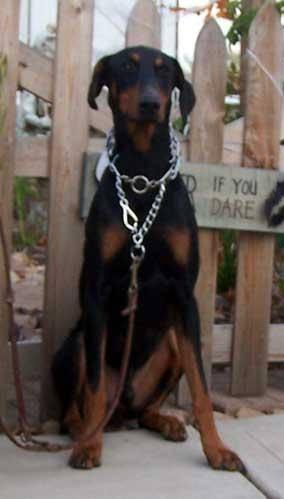dog: (48, 44, 246, 471)
